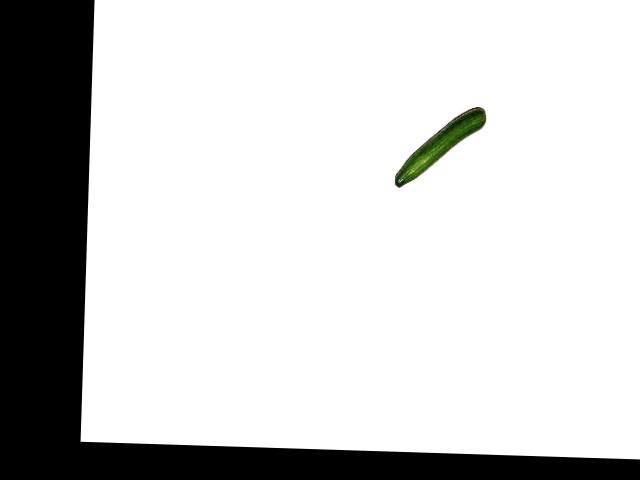cucumber: (394, 104, 486, 189)
